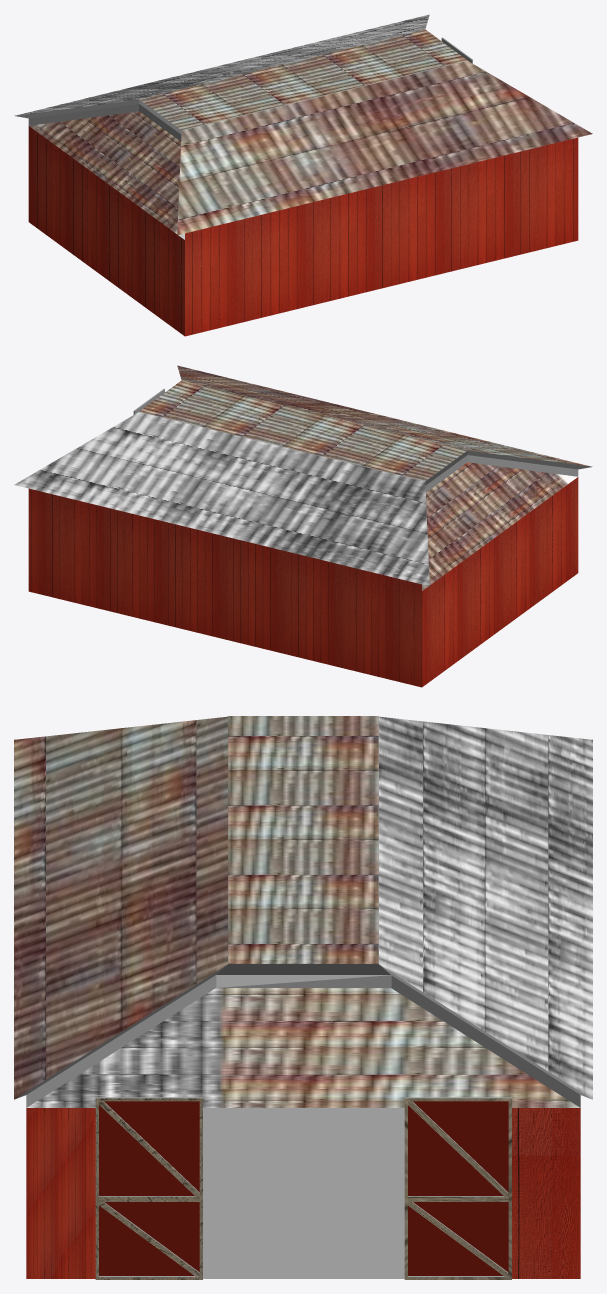
File: BarnLvl1.fbx
3 views of the same model, one above another, from view 1: azimuth 30°, elevation 25°; view 2: azimuth 150°, elevation 25°; view 3: azimuth 270°, elevation 25° (orthographic). The views are drawn at different scales.
Visible parts, largest first — view 1: pCube13; view 2: pCube13; view 3: pCube13, pCube10, pCube11.
Part boxes in pixels (left/top/right/bottom): pCube13: left=14, top=14, right=592, bottom=336; pCube13: left=14, top=365, right=592, bottom=687; pCube13: left=14, top=716, right=592, bottom=1278; pCube10: left=95, top=1097, right=202, bottom=1279; pCube11: left=404, top=1097, right=511, bottom=1279.
Size of the model in its own units: 25.48 by 8.87 by 17.32.
Materials: 10 (8 with a texture image).
